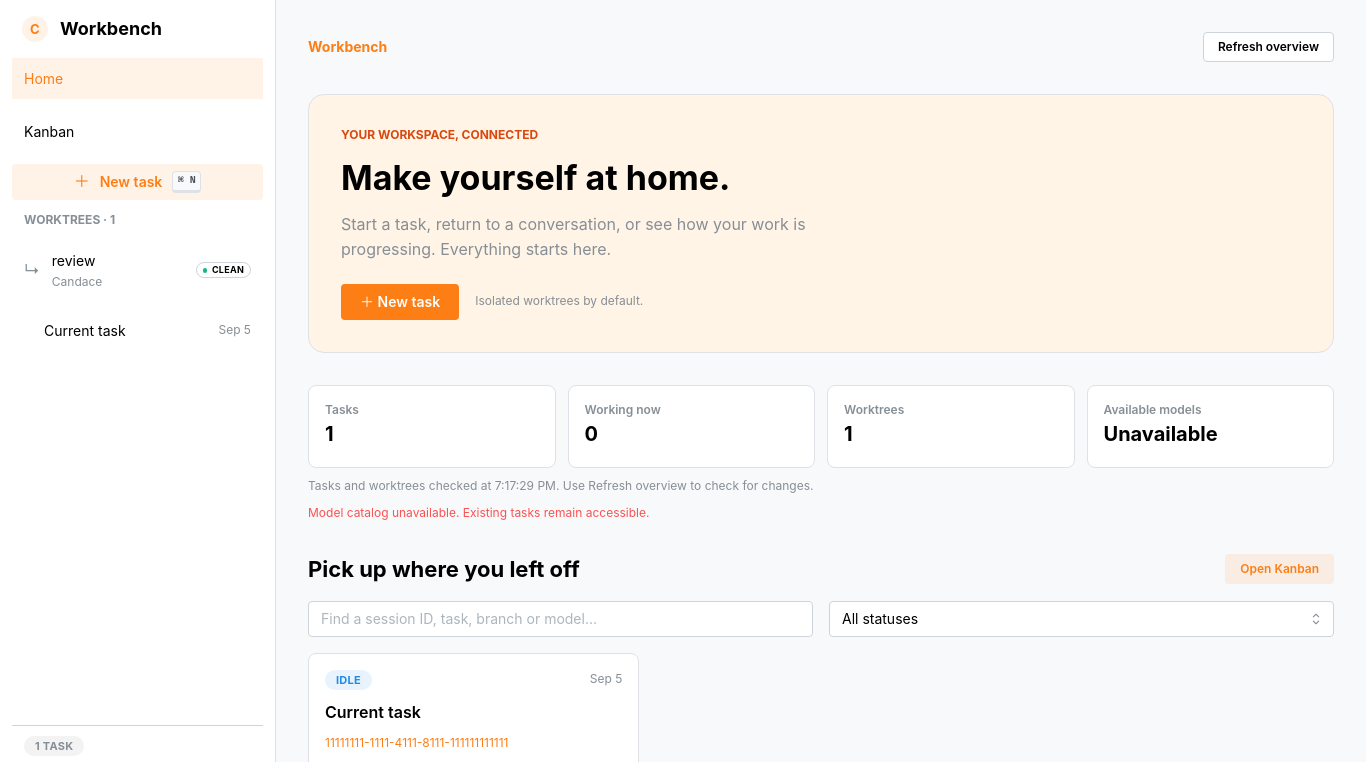
Test: App resource reloads › keeps tasks available through a catalog failure and lets the user refresh models
Expected: the link with aria-label "Continue Current task" is shown, [325,702,421,722]
Click the button "＋ New task ⌘ N".
click(138, 182)  # box [12,164,263,200]
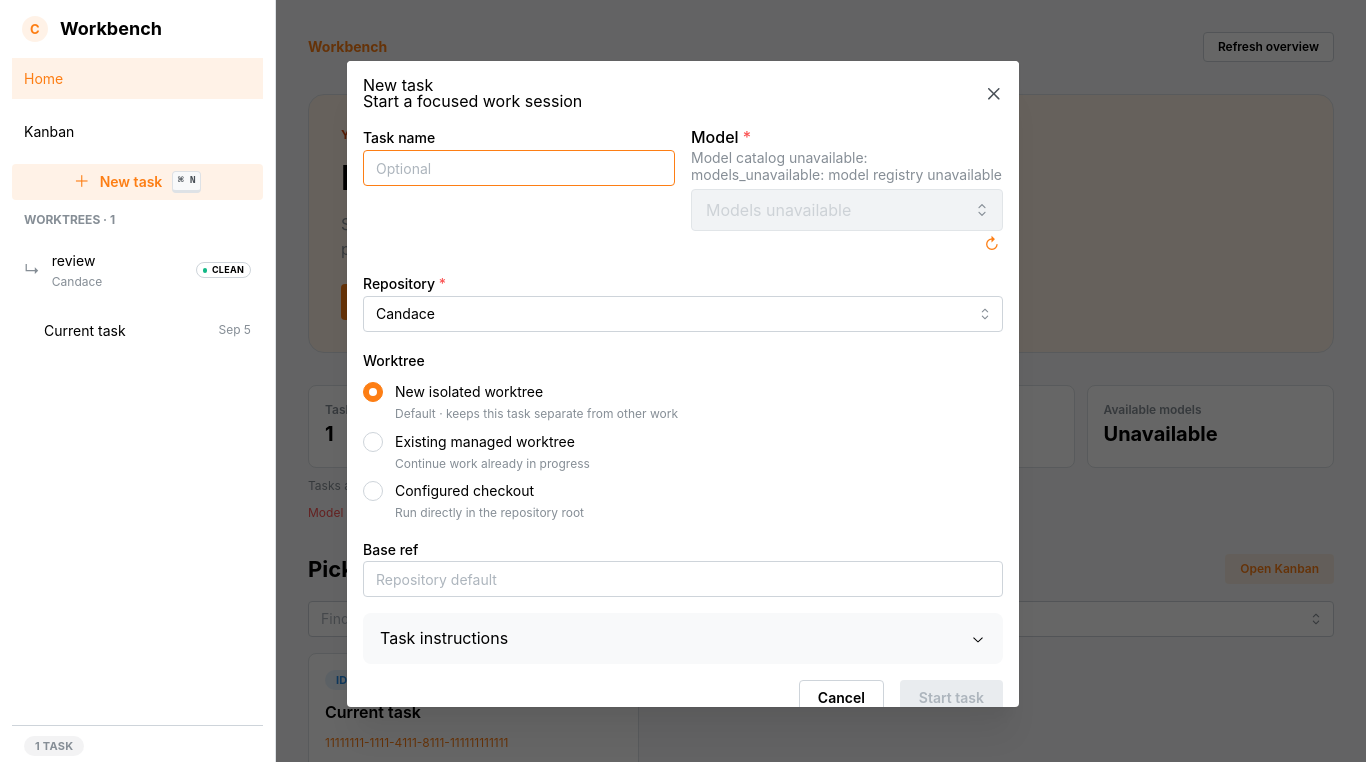
Now the message shows "models_unavailable: model registry unavailable", box [691,149,1002,183]
Now the dropdown labelled "Model" is disabled, box [691,189,1003,231]
Click the button named "Refresh models".
click(992, 244)  # box [981,233,1003,255]
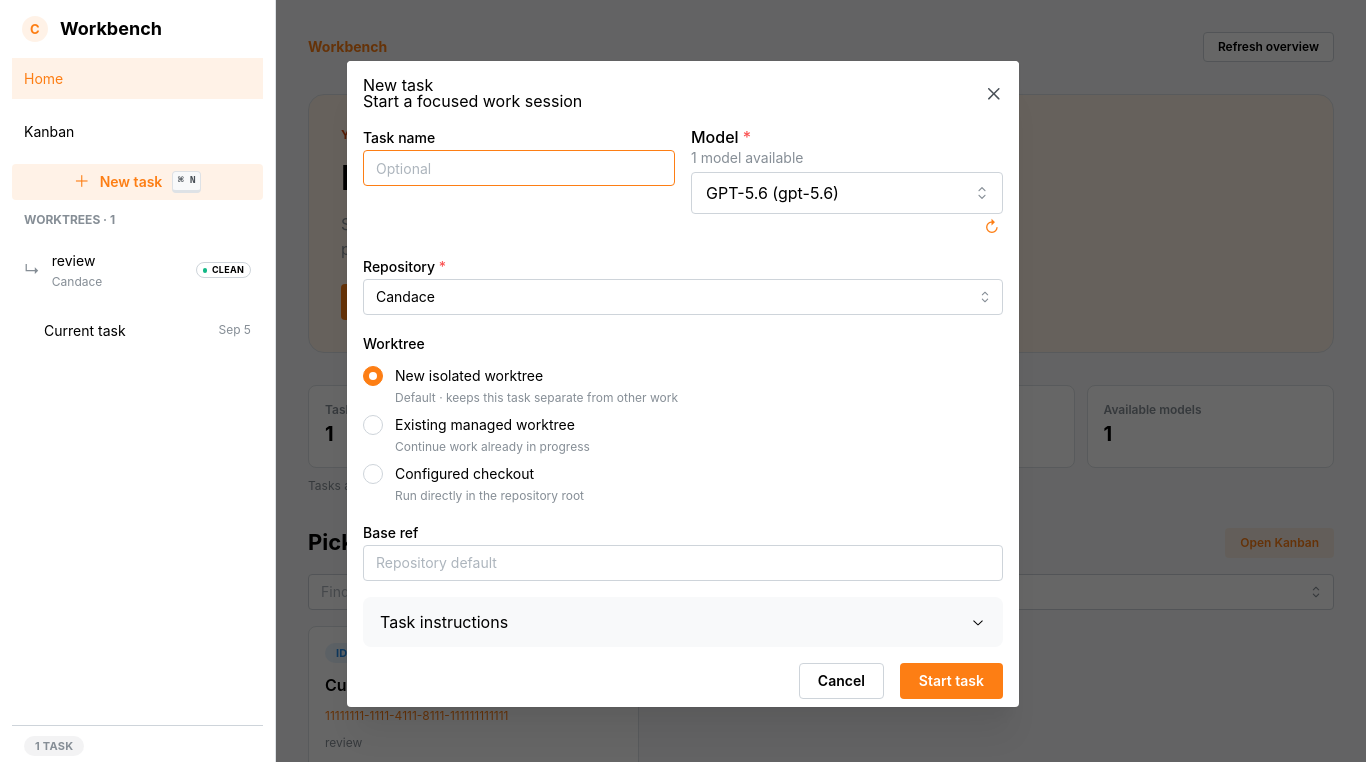
Now the dropdown labelled "Model" shows "GPT-5.6 (gpt-5.6)", box [691,172,1003,214]
Now the dropdown labelled "Model" is enabled, box [691,172,1003,214]
